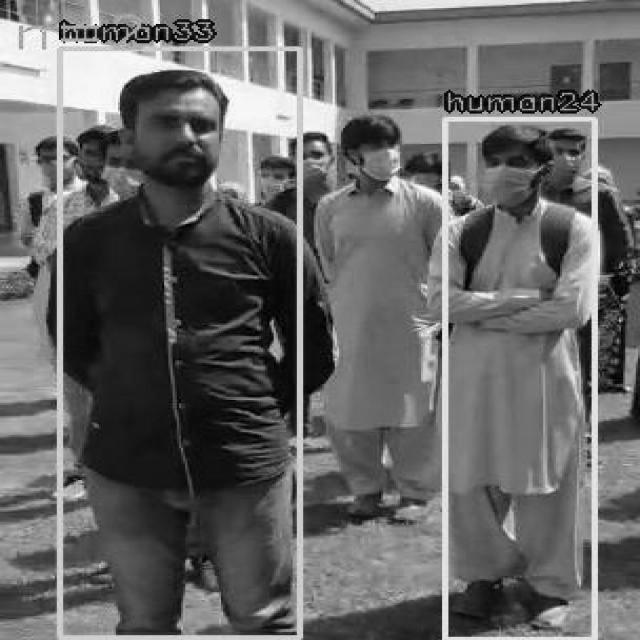person: (57, 46, 299, 637), (442, 116, 594, 638)
